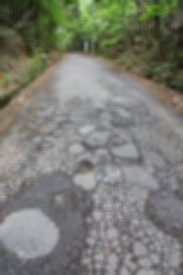pothole: (48, 189, 77, 211), (74, 156, 100, 172), (43, 129, 55, 142)
